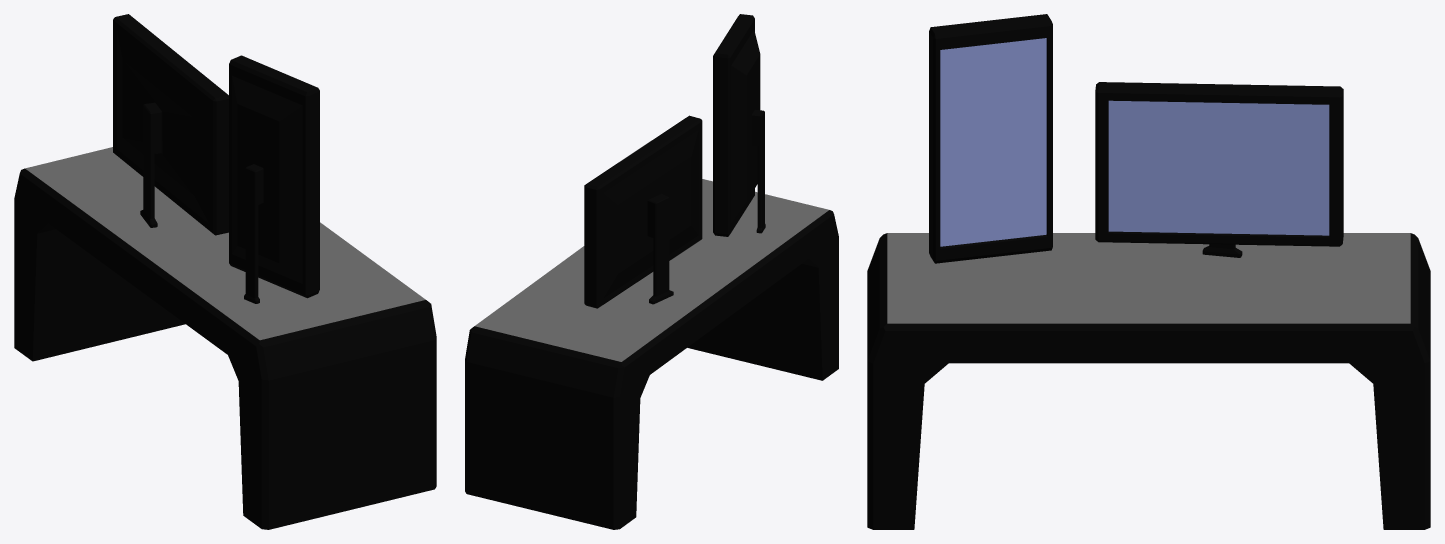
Rendered from DeskA.fbx.
3 views of the same model, side by side, from view 1: azimuth 30°, elevation 25°; view 2: azimuth 150°, elevation 25°; view 3: azimuth 270°, elevation 25° (orthographic). The views are drawn at different scales.
Visible parts, largest first — view 1: Desk 1; view 2: Desk 1; view 3: Desk 1.
Part boxes in pixels (left/top/right/bottom): Desk 1: left=14, top=14, right=436, bottom=529; Desk 1: left=465, top=14, right=838, bottom=529; Desk 1: left=867, top=14, right=1430, bottom=529.
Bounding box in the file's own units: 100 × 219 × 250.
